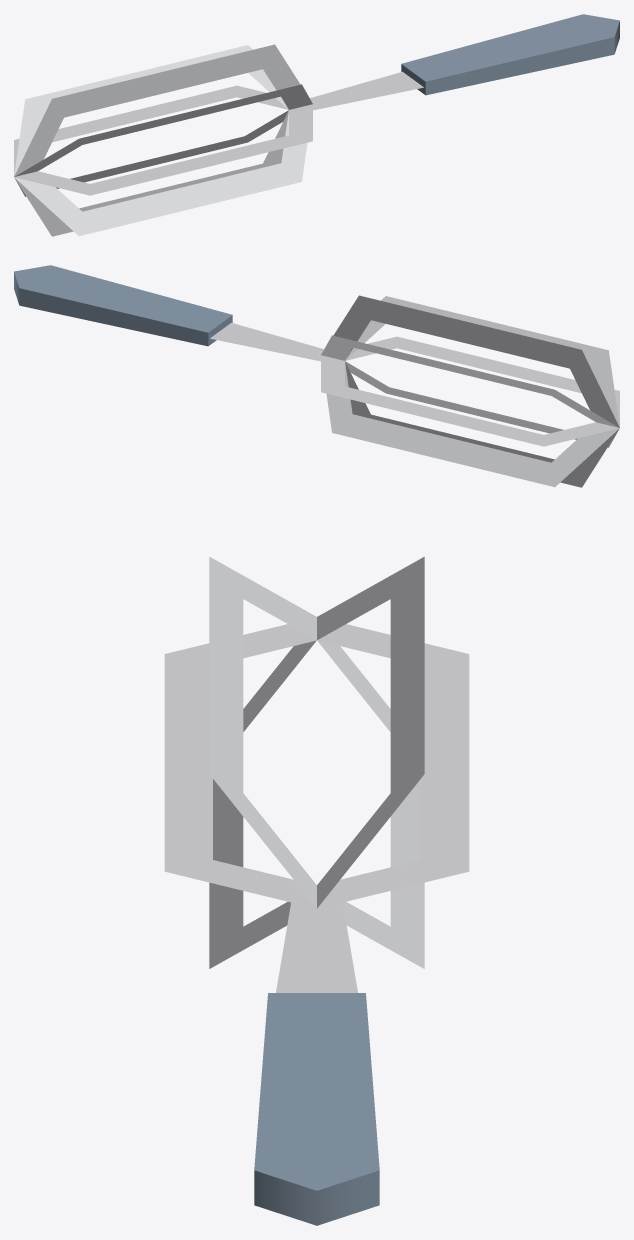
Rendered from whisk.obj.
The picture shows the model from 3 angles, top to bottom: view 1: azimuth 30°, elevation 25°; view 2: azimuth 150°, elevation 25°; view 3: azimuth 270°, elevation 25°; orthographic projection. The views are drawn at different scales.
Visible parts, largest first — view 1: whisk; view 2: whisk; view 3: whisk.
Part boxes in pixels (box(x1,y1,x2,y2)): whisk: box(14, 14, 619, 236); whisk: box(14, 265, 619, 487); whisk: box(164, 556, 469, 1225).
Size of the model in its own units: 0.7244 by 0.1576 by 0.1576.
